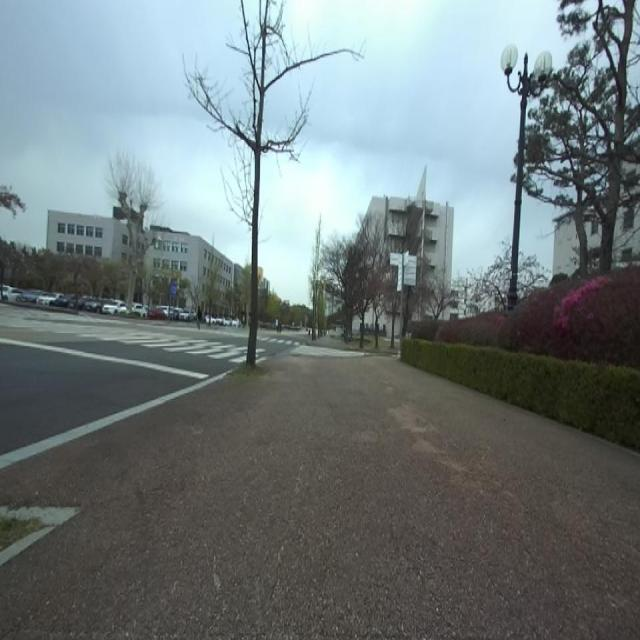sidewalk: (0, 356, 640, 639), (0, 374, 226, 469)
